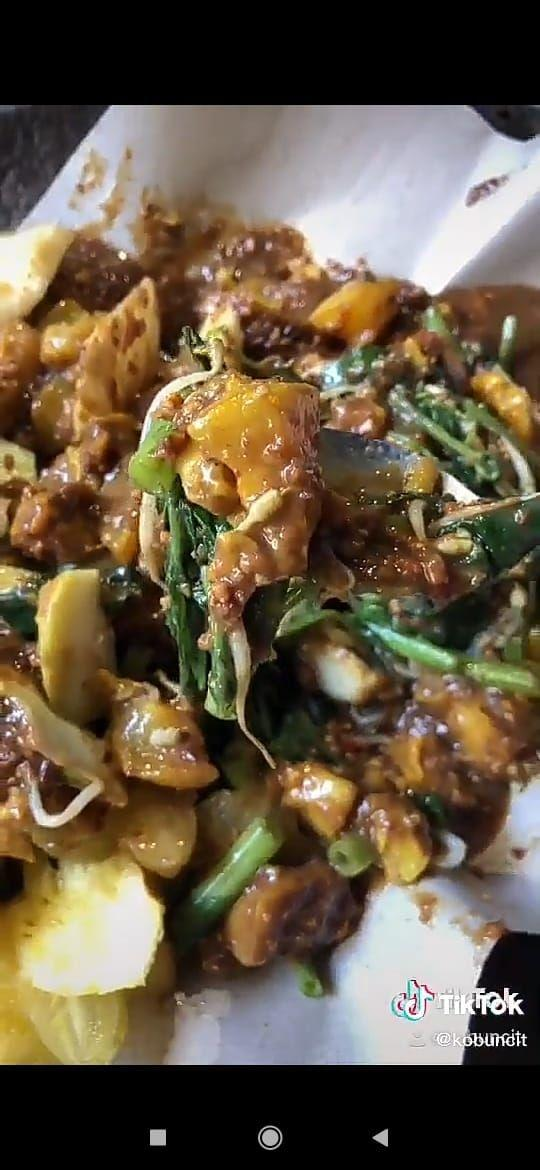rujak_cingur: (7, 218, 540, 982)
